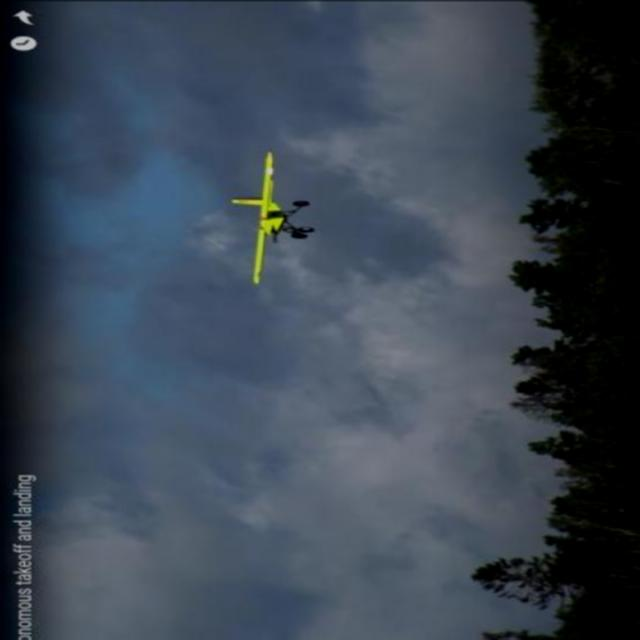plane: (228, 151, 314, 286)
